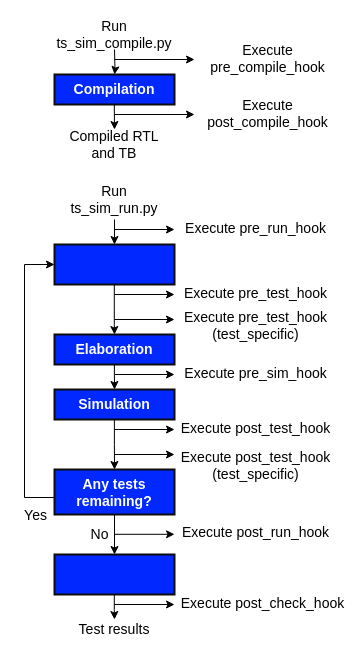
Some shapes in this 361 by 656 pixel diagram are drawn without their labels. The shapes that lost their labels are listed below. From the top down, each one's box as (x1, y1, x2, y2) in pixels, then its label:
(53, 243, 175, 285): Start execution of a test
(53, 553, 175, 595): Run ts_sim_check.py
